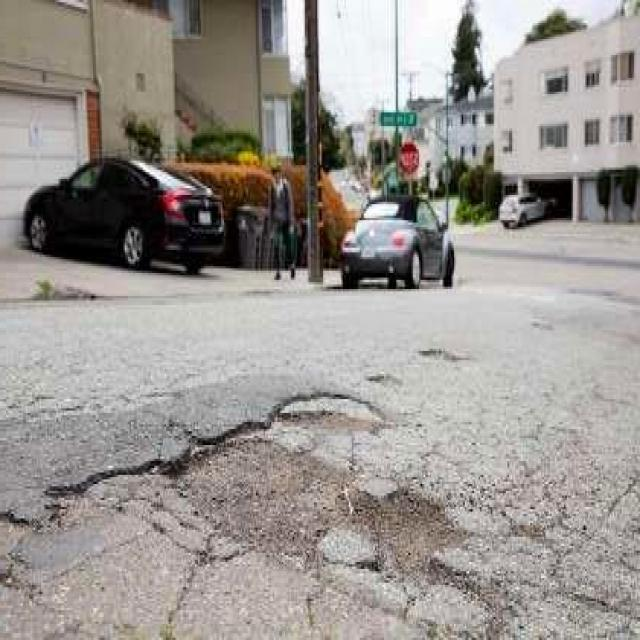jalan retak: (458, 441, 640, 640), (253, 555, 503, 640), (101, 505, 252, 640), (0, 510, 163, 624), (32, 434, 165, 520), (85, 364, 203, 424), (0, 384, 98, 428), (300, 565, 336, 640)
lubang: (163, 390, 465, 588), (0, 484, 34, 614), (23, 273, 106, 307), (416, 342, 471, 367), (367, 360, 407, 392), (525, 312, 555, 338)
